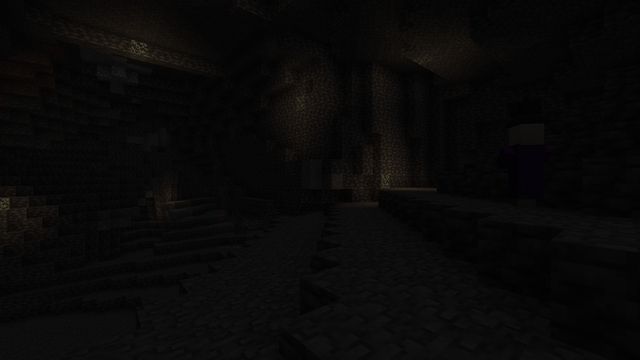sorcieres: (506, 118, 544, 208)
